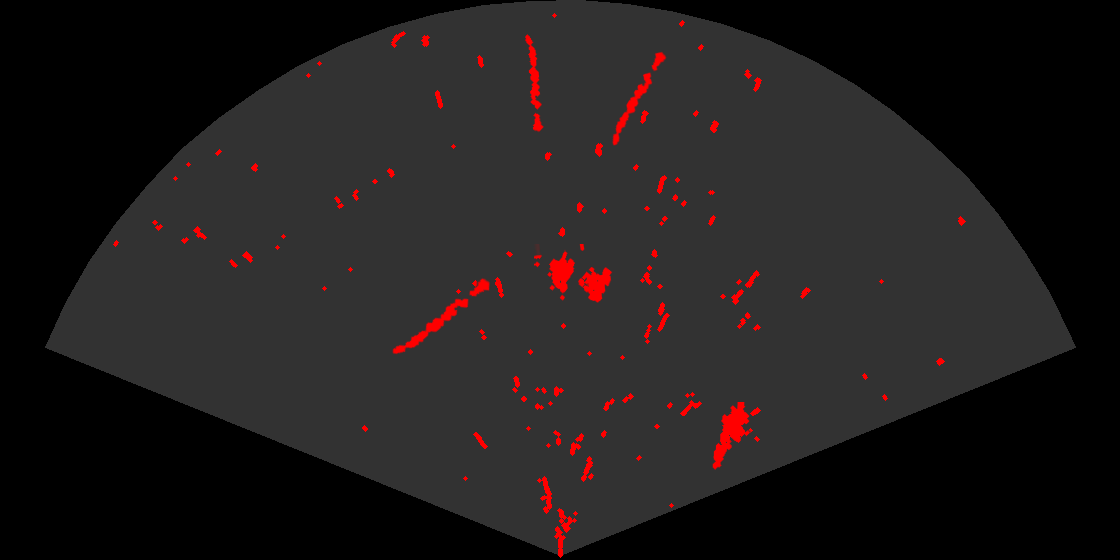cage: (534, 244, 614, 304)
chain: (391, 276, 492, 356), (611, 50, 668, 147), (524, 33, 545, 133)
frogman: (711, 402, 752, 470)
